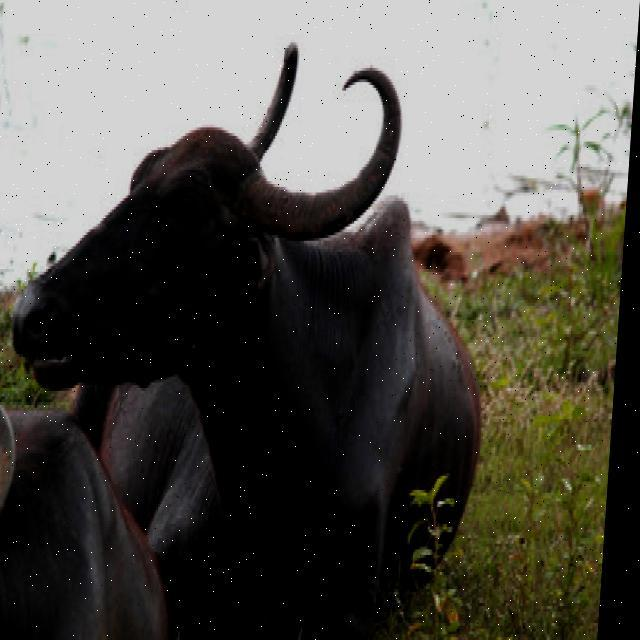Buffalo: (0, 37, 510, 640)
